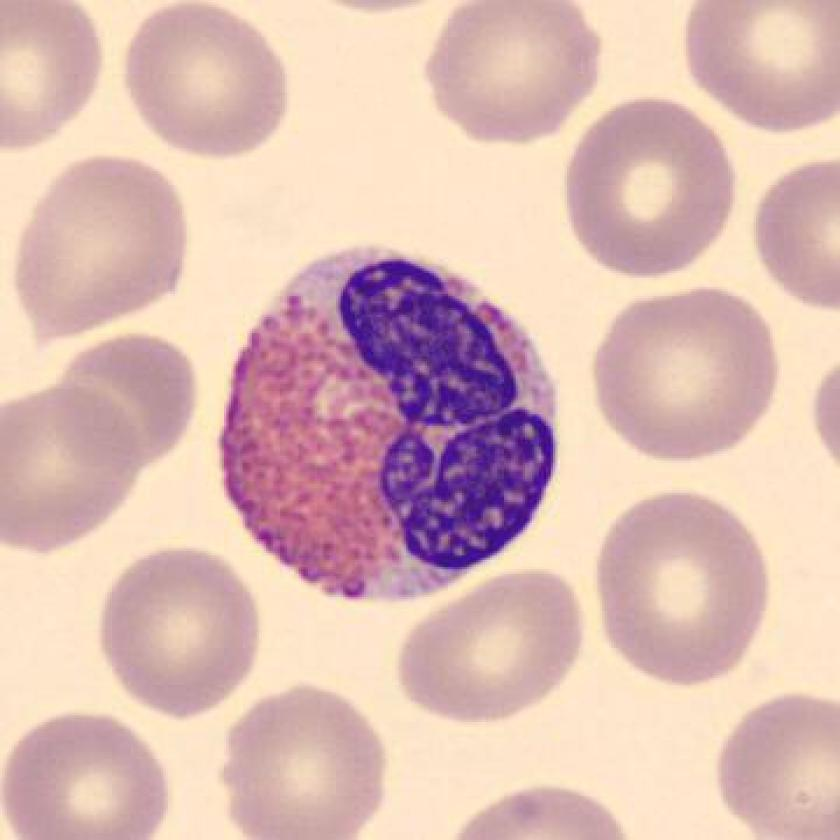eosinophil: (204, 237, 575, 617)
